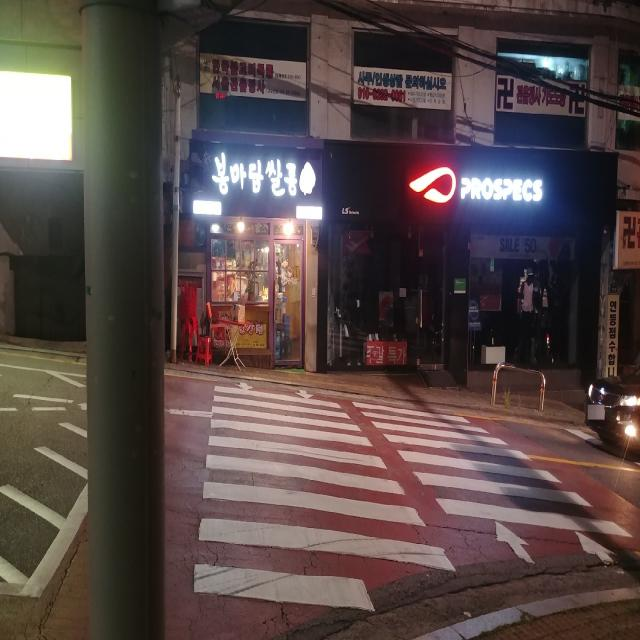횡단보도: (192, 381, 635, 618)
